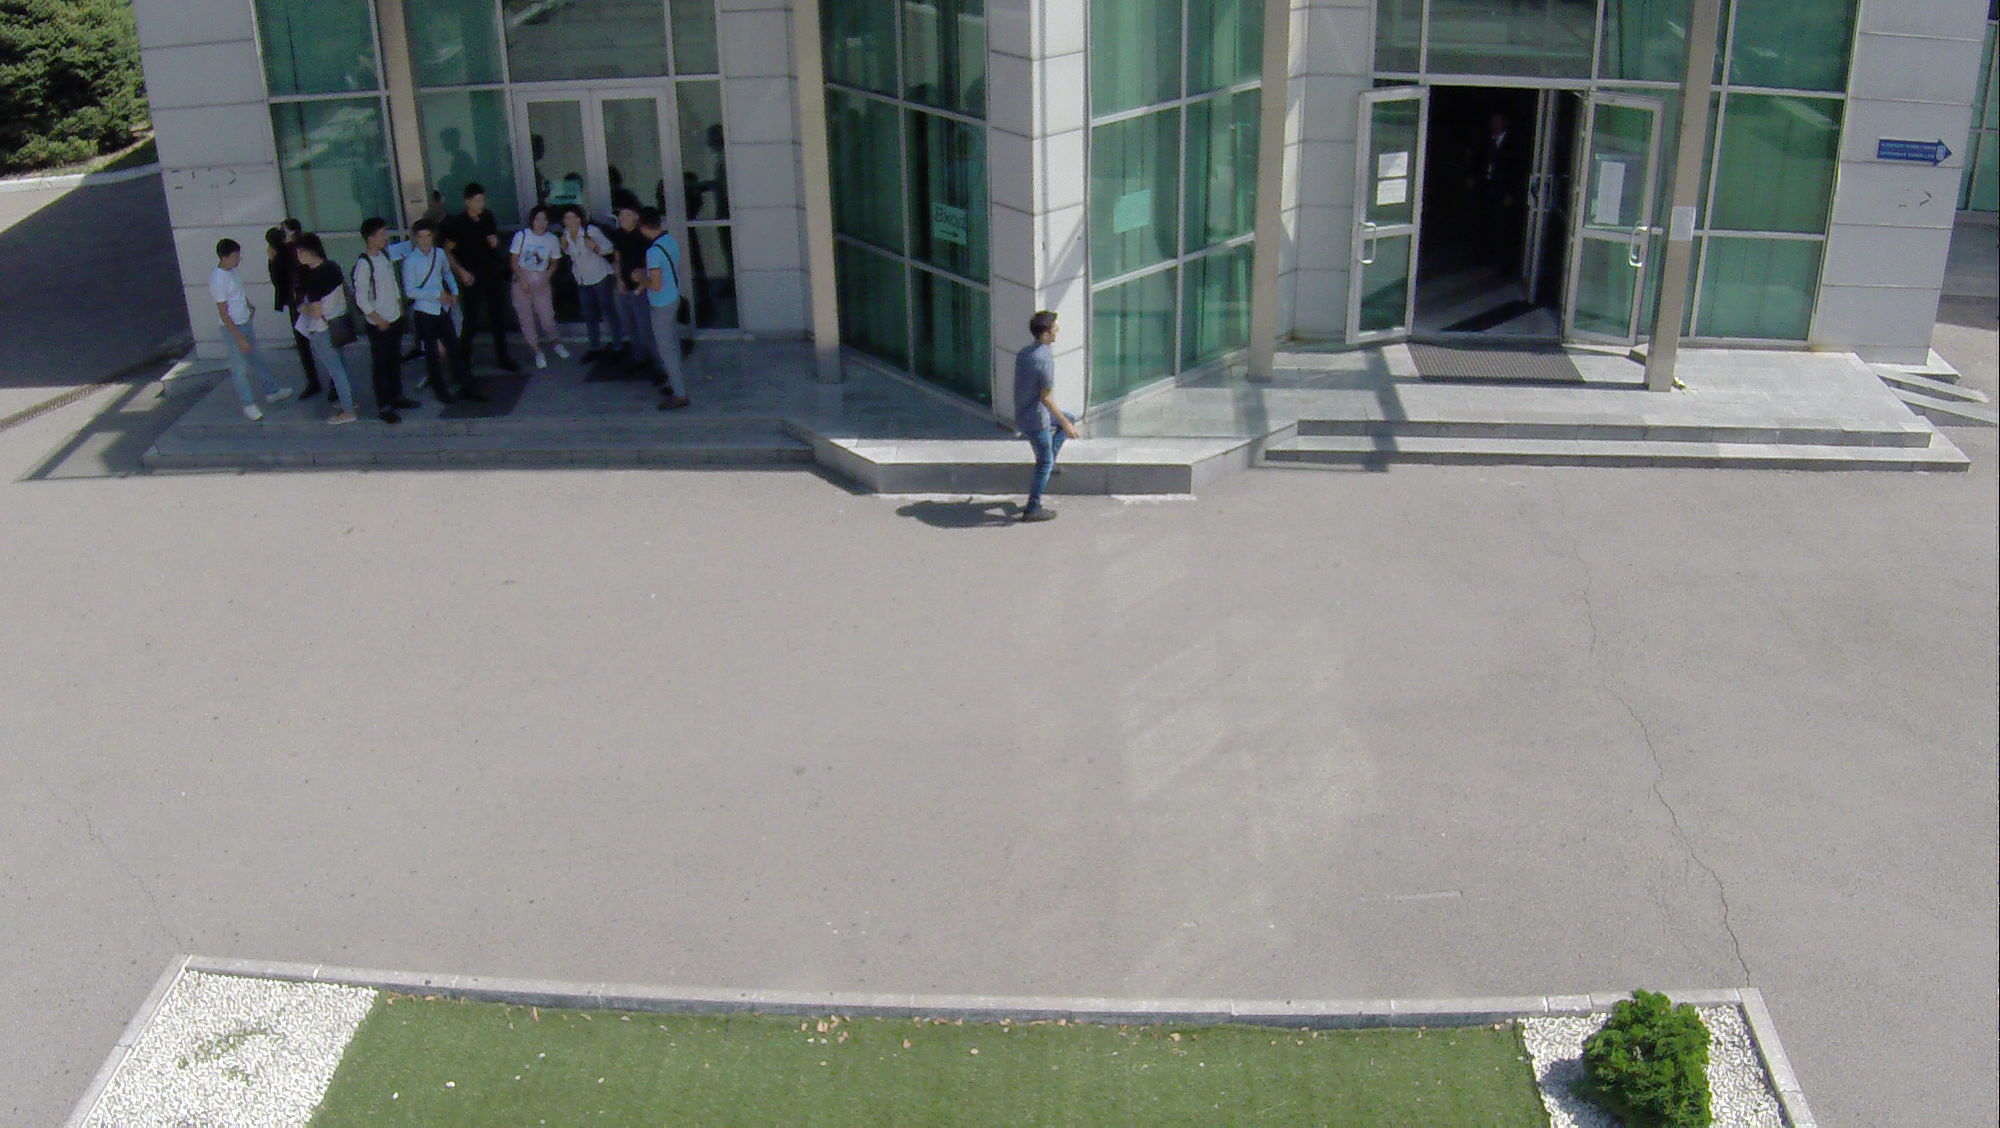person: (1004, 305, 1083, 531), (290, 229, 363, 437), (205, 232, 282, 423), (397, 216, 469, 419), (633, 203, 698, 415), (354, 211, 411, 429), (558, 194, 622, 376), (453, 174, 509, 378), (514, 199, 567, 374), (616, 192, 650, 386)
